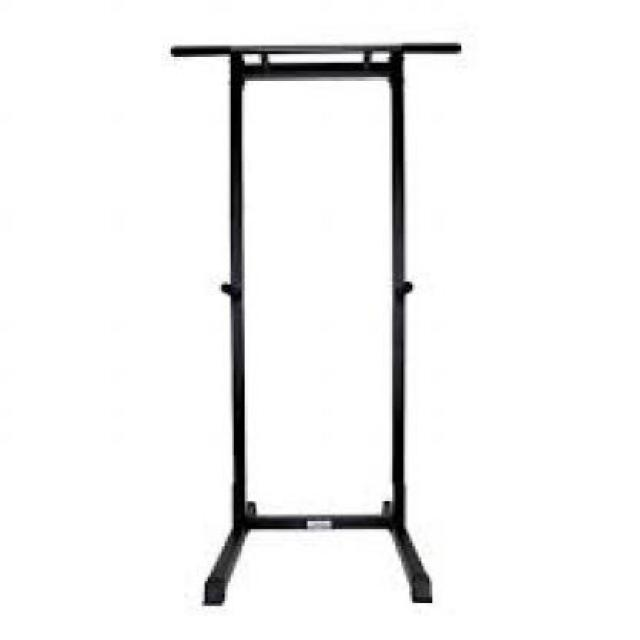chinning dipping: (169, 42, 463, 608)
